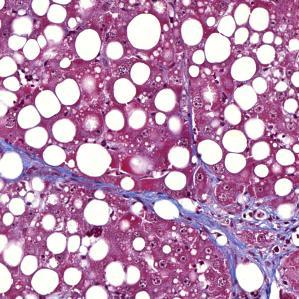fibrosis: (184, 201, 298, 275)
